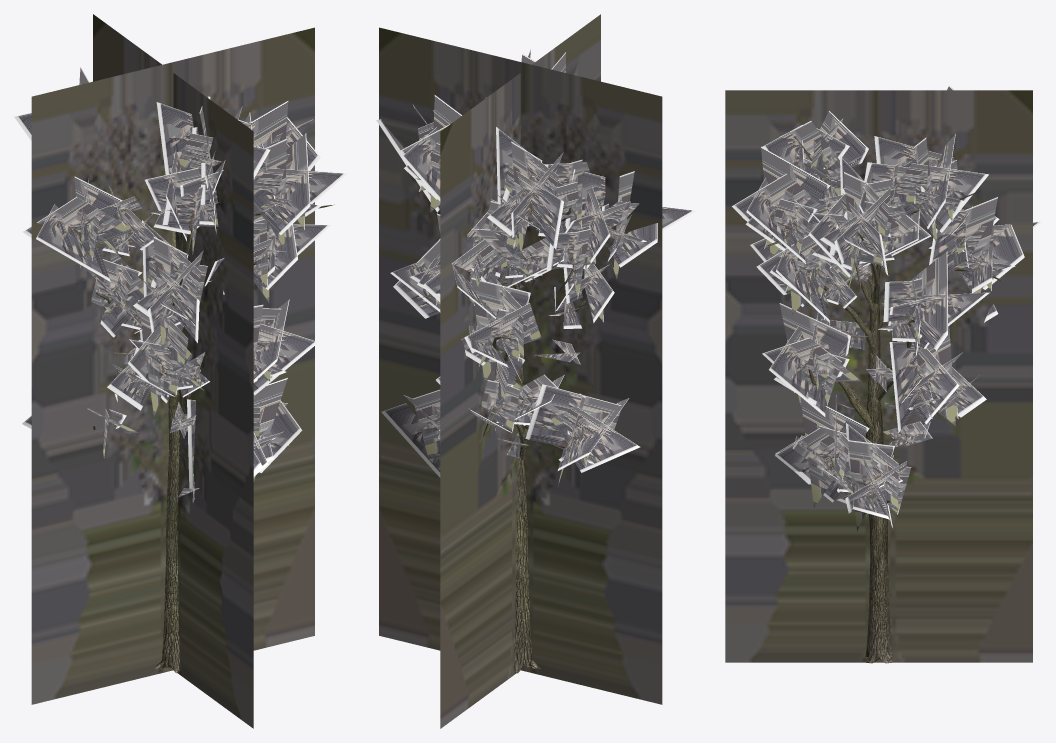
File: Tree-Oak0D.fbx
3 views of the same model, side by side, from view 1: azimuth 30°, elevation 25°; view 2: azimuth 150°, elevation 25°; view 3: azimuth 270°, elevation 25° (orthographic). The views are drawn at different scales.
Visible parts, largest first — view 1: Billboard-Oak0D, Tree-Oak0D_LOD0; view 2: Billboard-Oak0D, Tree-Oak0D_LOD0; view 3: Billboard-Oak0D, Tree-Oak0D_LOD0.
Boxes of the visible parts, <box> form: Billboard-Oak0D: <box>31,14,314,728</box>; Tree-Oak0D_LOD0: <box>14,67,347,673</box>; Billboard-Oak0D: <box>379,14,662,728</box>; Tree-Oak0D_LOD0: <box>376,49,696,673</box>; Billboard-Oak0D: <box>725,90,1032,662</box>; Tree-Oak0D_LOD0: <box>732,85,1040,663</box>.
Size of what is drawn, in the model's own units: 1446 by 2800 by 1379.
